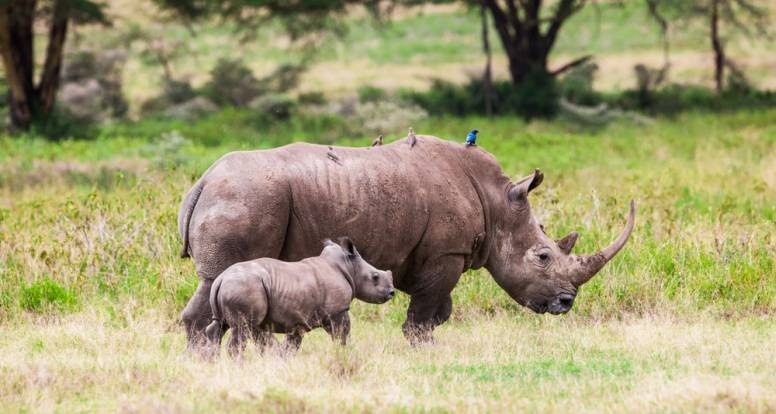rhino: (177, 131, 638, 354), (209, 236, 396, 353)
